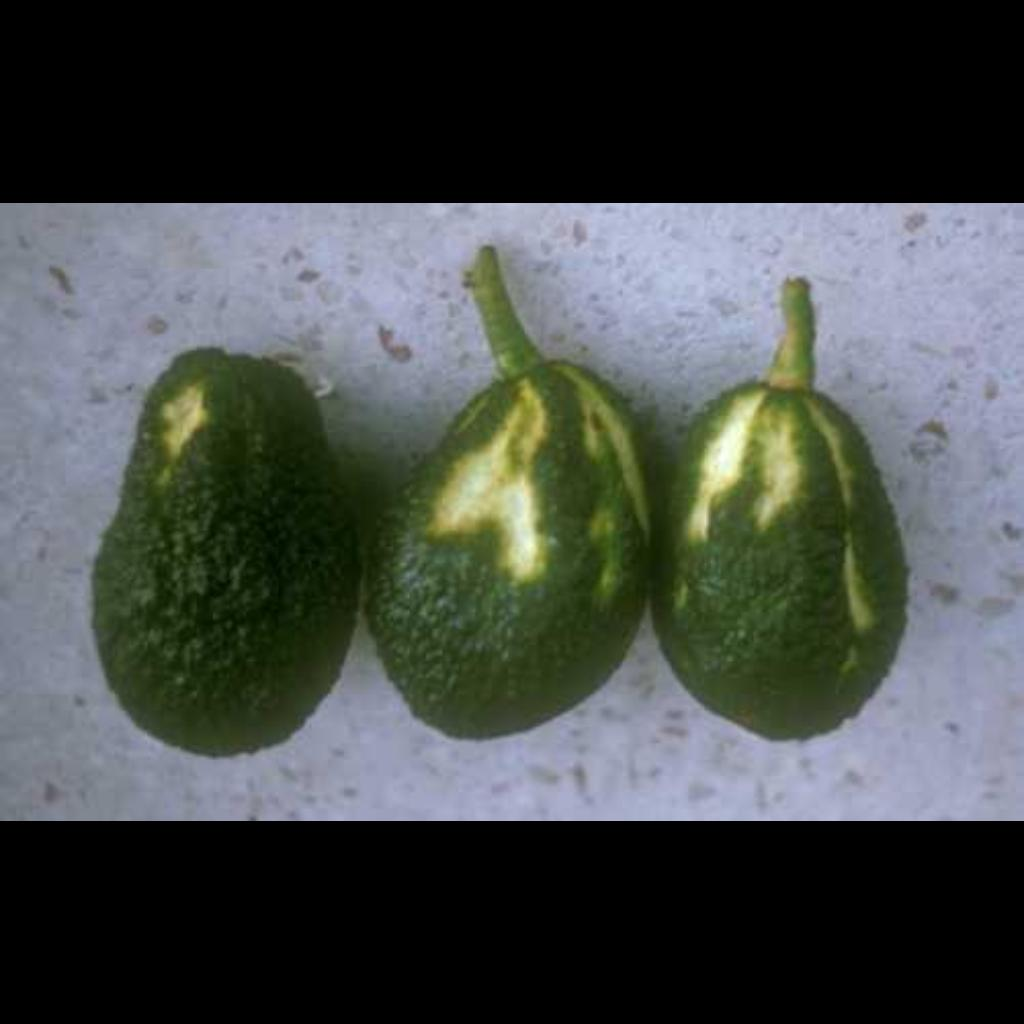sunblotch: (642, 282, 932, 766), (74, 330, 368, 794), (364, 318, 664, 732)
